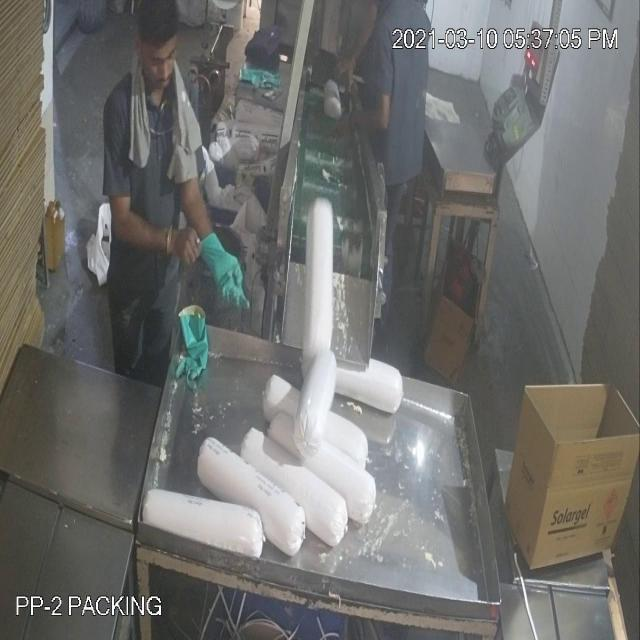No_Gloves: (51, 38, 367, 267)
